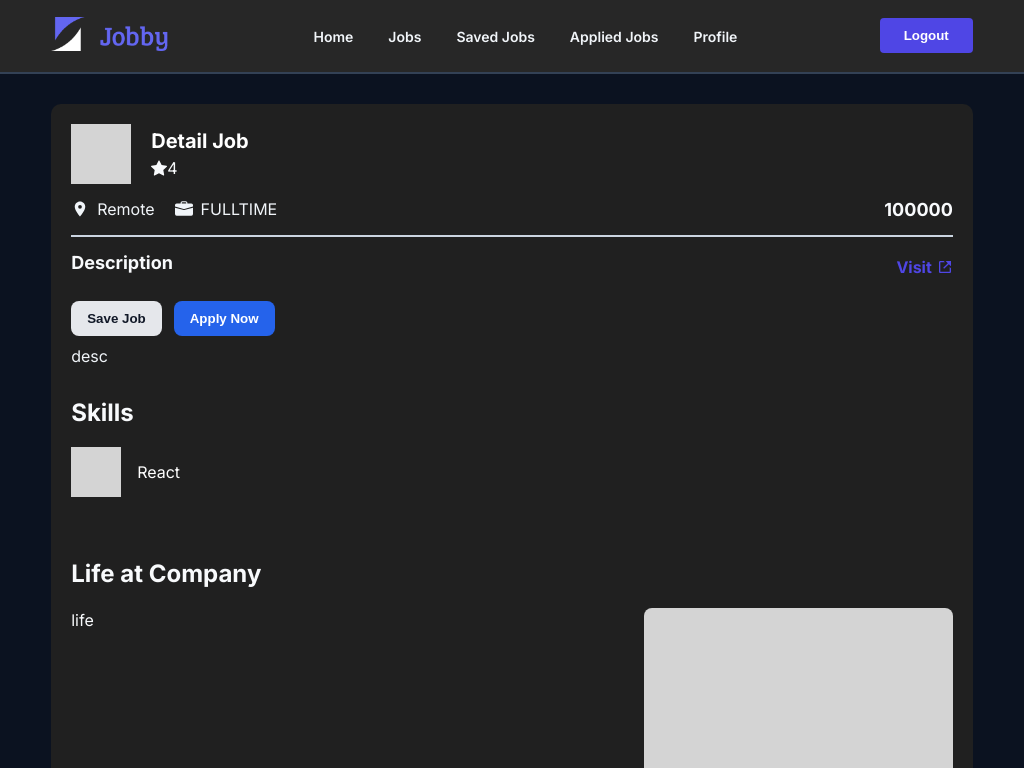
Scenario: JobItemDetails component › optimistically updates save button before the server responds
What coordinates should you click on to do the following:
click the button "Save Job"
I would click on:
 (116, 318)
Its box is 71,300 -> 162,336.
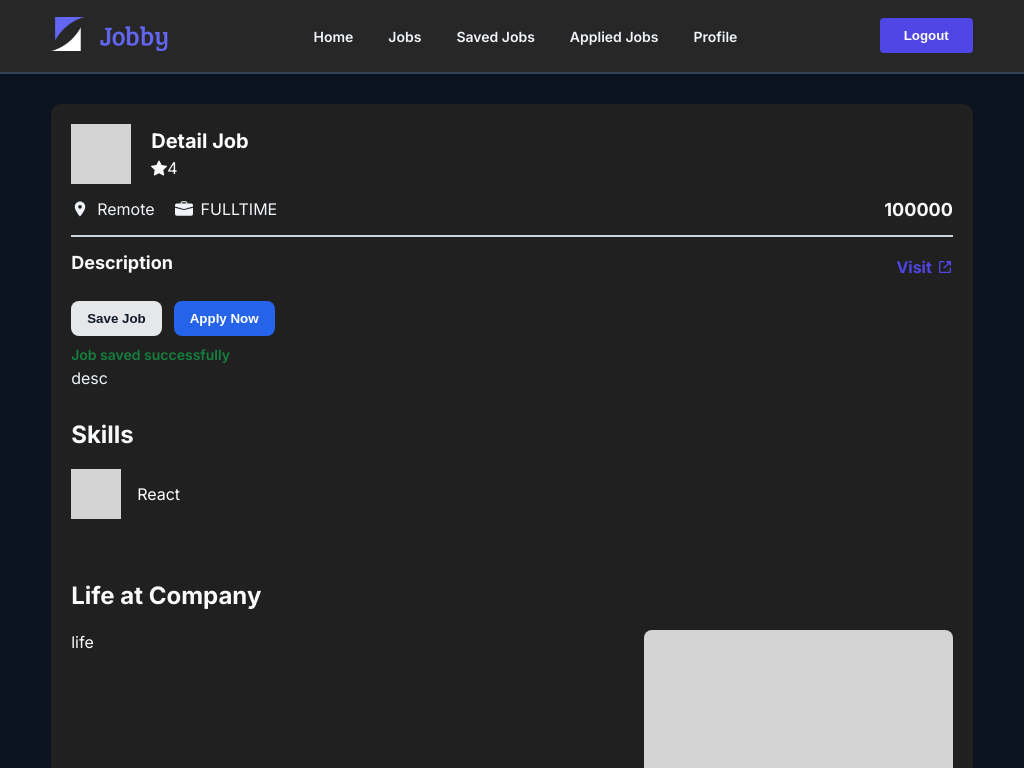
Check: the text "Job saved successfully" is shown, box 71,346 -> 230,362
